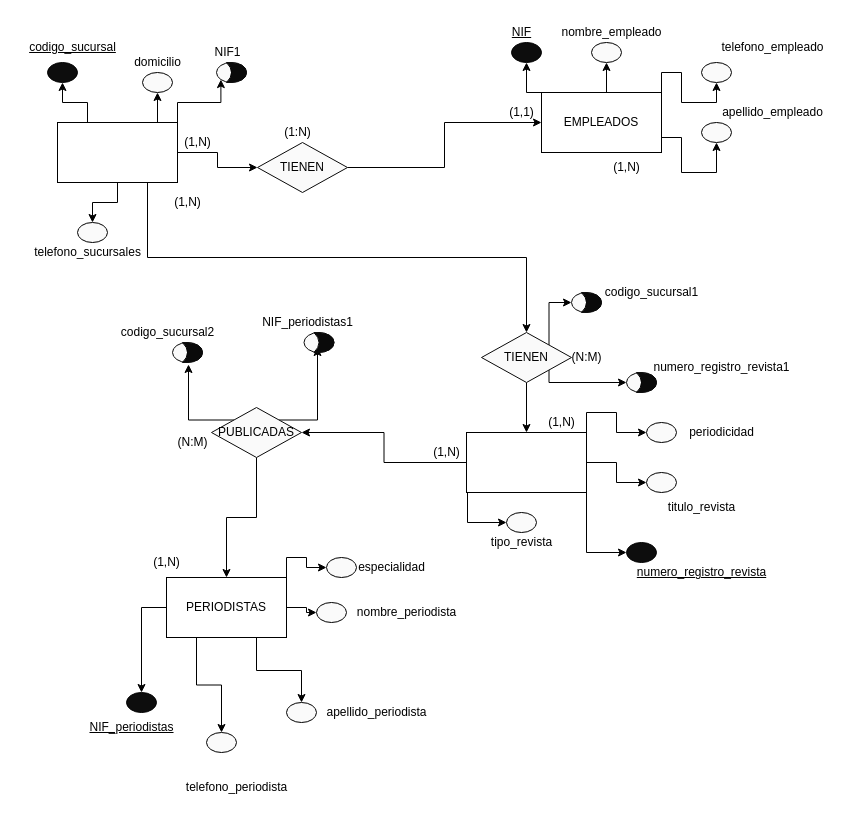
Some shapes in this 854 by 819 pixel diagram are drawn without their labels. The box of each missing label's shape, as (x1, y1, x2, y2) in pixels:
REVISTAS: (466, 432, 586, 492)
SUCURSALES: (56, 122, 178, 182)
